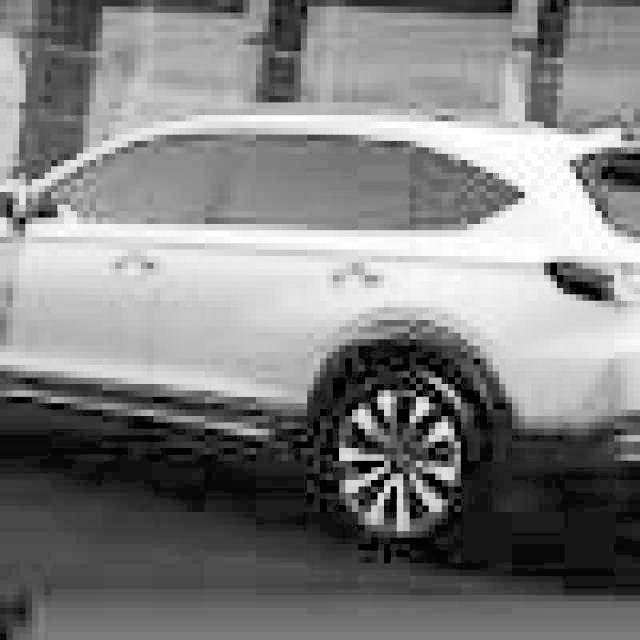Car: (0, 69, 640, 603)
